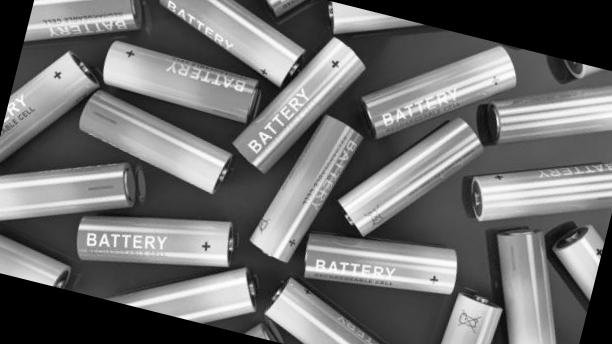battery: (319, 93, 496, 259), (60, 84, 250, 205), (242, 98, 350, 282), (294, 220, 488, 316), (418, 284, 519, 344)
